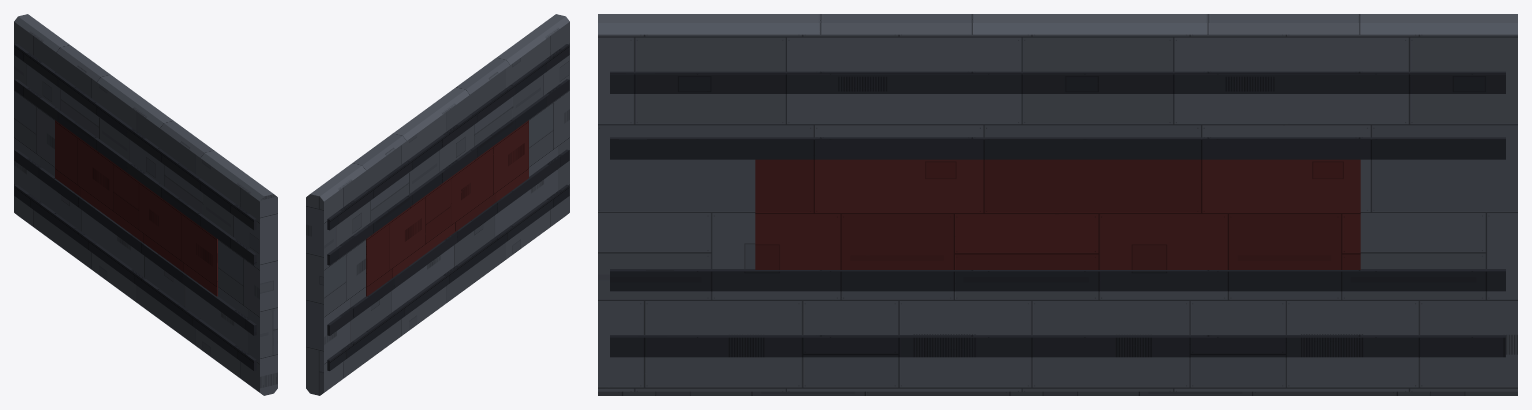
The model's file is juggernaut_hangar_door.glb.
3 views of the same model, side by side, from view 1: azimuth 30°, elevation 25°; view 2: azimuth 150°, elevation 25°; view 3: azimuth 270°, elevation 25° (orthographic). The views are drawn at different scales.
Parts seen in each view (by area): view 1: Juggernaut_HangarDoor_L; view 2: Juggernaut_HangarDoor_L; view 3: Juggernaut_HangarDoor_L.
Part boxes in pixels (box(x1,y1,x2,y2)): Juggernaut_HangarDoor_L: box(14, 14, 277, 395); Juggernaut_HangarDoor_L: box(306, 14, 569, 395); Juggernaut_HangarDoor_L: box(598, 14, 1517, 395).
Size of the model in its own units: 6.3 by 51 by 114.
Materials: 3 (3 with a texture image).
